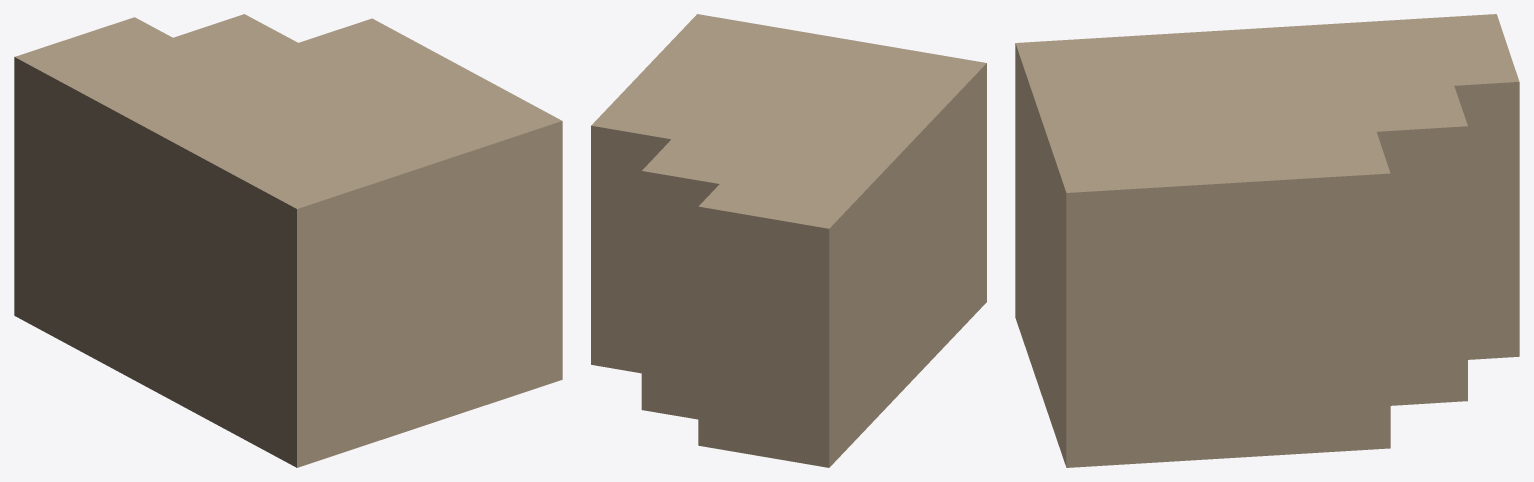
Rendered from bld_109034733.dae.
The picture shows the model from 3 angles, left to right: view 1: azimuth 30°, elevation 25°; view 2: azimuth 150°, elevation 25°; view 3: azimuth 270°, elevation 25°; orthographic projection. The views are drawn at different scales.
Visible parts, largest first — view 1: bld_109034733; view 2: bld_109034733; view 3: bld_109034733.
Boxes of the visible parts, x1,y1,x2,y2 form: bld_109034733: (14, 14, 562, 467); bld_109034733: (591, 14, 986, 467); bld_109034733: (1015, 14, 1519, 467).
Size of the model in its own units: 11.17 by 13.29 by 8.
